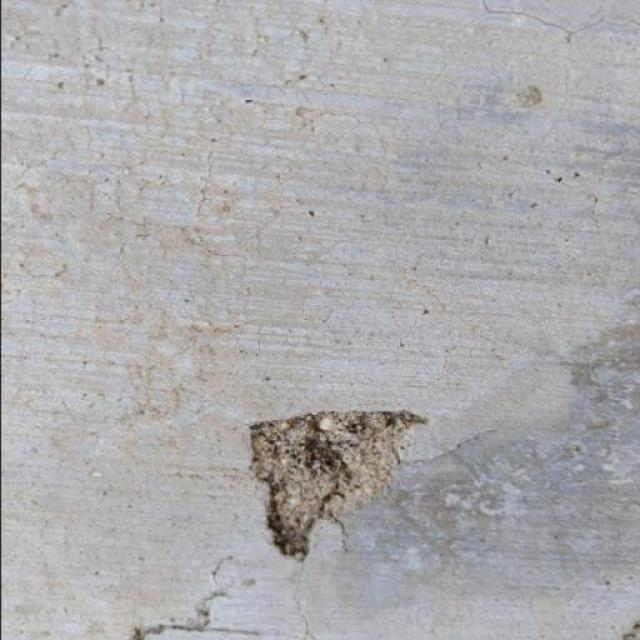D10: (248, 410, 426, 562)
